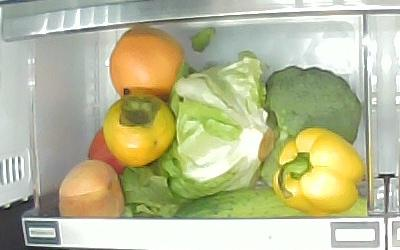broccoli: (260, 66, 361, 190)
cucumber: (174, 189, 367, 218)
grapefruit: (109, 27, 187, 99)
lettuce: (162, 57, 275, 199)
paprika: (274, 127, 365, 216)
peach: (58, 160, 124, 217)
persimmon: (103, 95, 177, 167)
